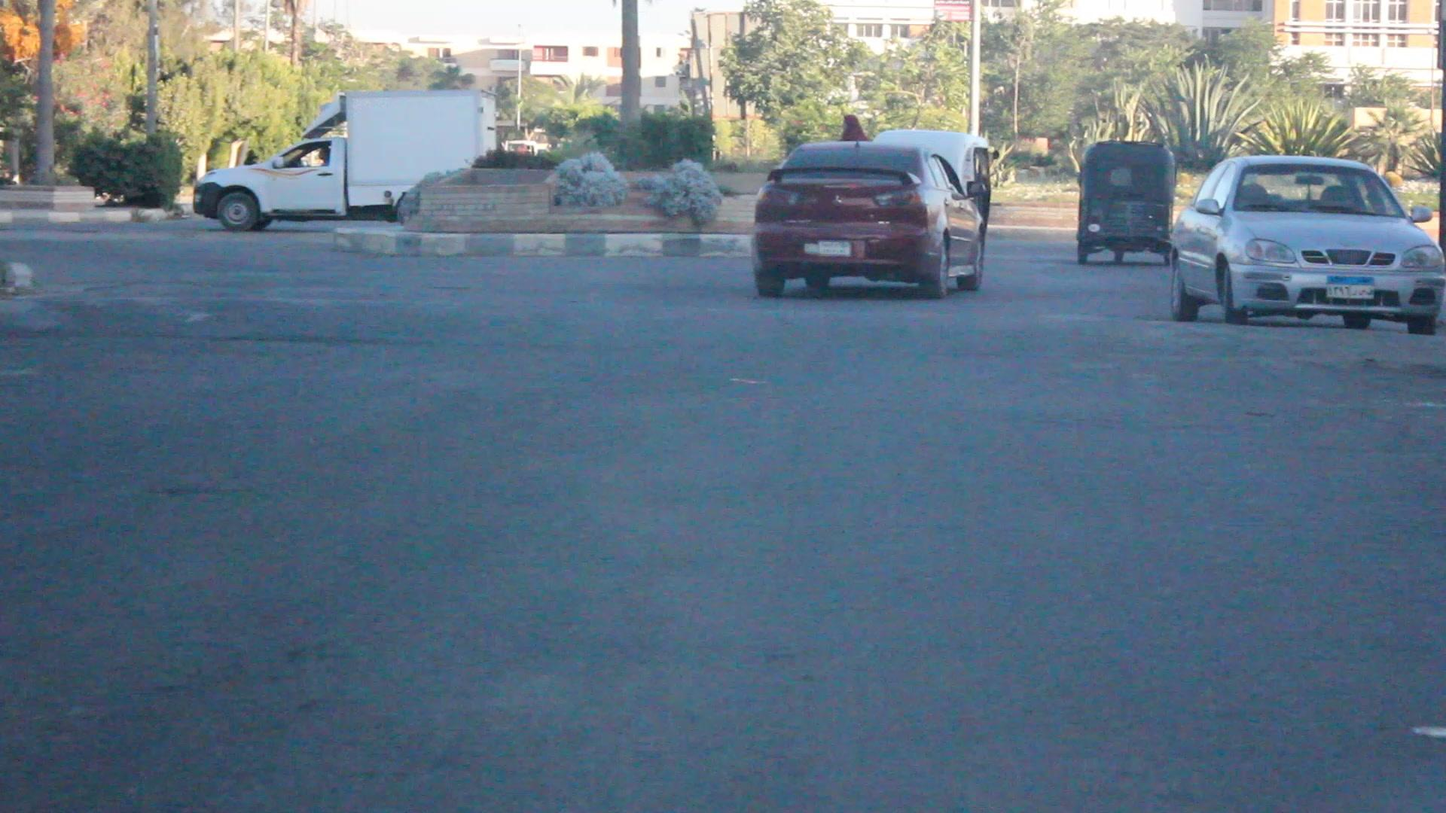Bump: (0, 275, 1446, 376)
